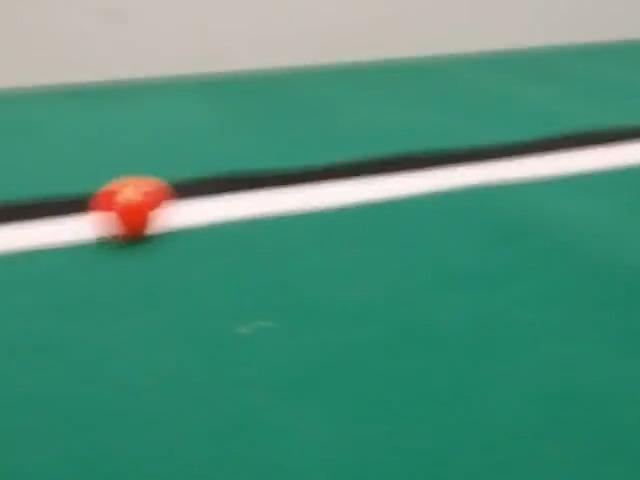Ball: (89, 176, 173, 239)
